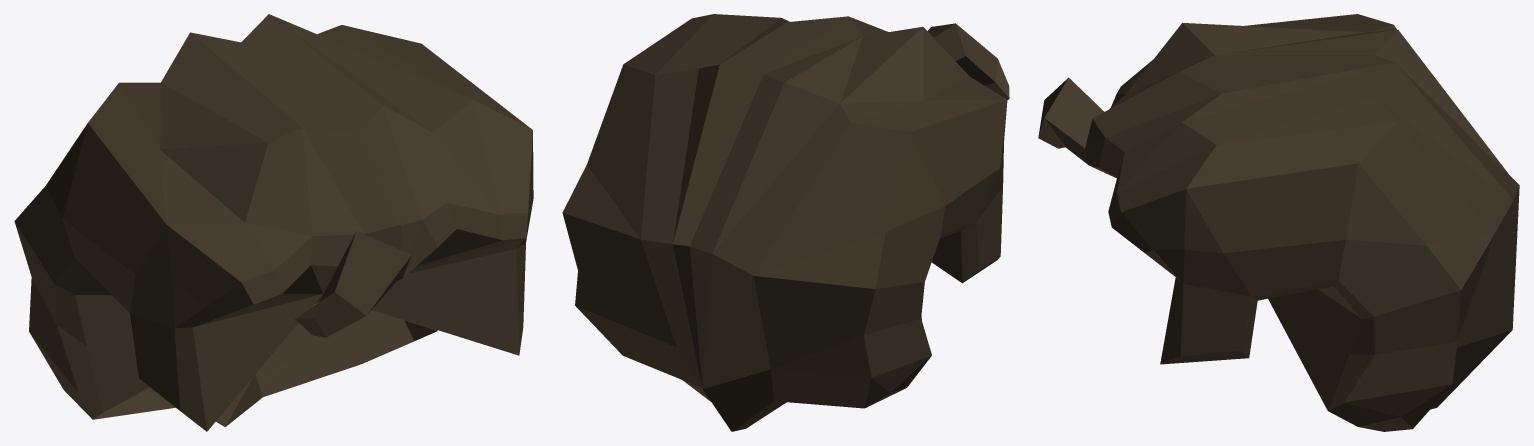
Rendered from SM_Chr_Attach_Hair_Male_05.fbx.
3 renders of one model, left to right at view 1: azimuth 30°, elevation 25°; view 2: azimuth 150°, elevation 25°; view 3: azimuth 270°, elevation 25°, orthographic. The views are drawn at different scales.
Parts seen in each view (by area): view 1: SM_Chr_Attach_Hair_Male_05; view 2: SM_Chr_Attach_Hair_Male_05; view 3: SM_Chr_Attach_Hair_Male_05.
Part boxes in pixels (x1,y1,x2,y2): SM_Chr_Attach_Hair_Male_05: [14, 14, 533, 431]; SM_Chr_Attach_Hair_Male_05: [562, 14, 1009, 431]; SM_Chr_Attach_Hair_Male_05: [1038, 14, 1519, 431].
Size of the model in its own units: 25.4 by 25.4 by 30.01.
